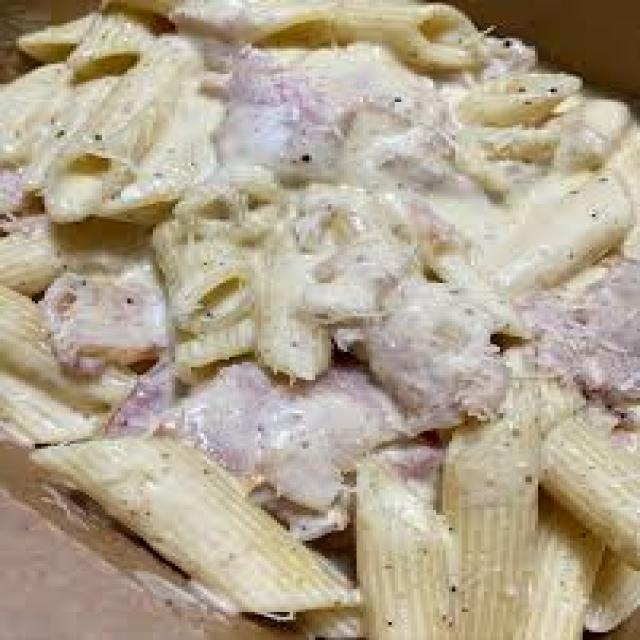pasta: (114, 44, 563, 525)
